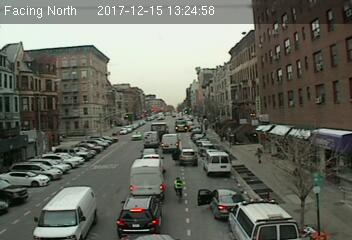bicycle: (173, 175, 183, 202)
car: (116, 194, 161, 234), (205, 187, 244, 218), (177, 148, 199, 165)
pedestrian: (254, 145, 263, 162)
police: (226, 197, 300, 240)
truck: (34, 185, 95, 240), (130, 160, 164, 196), (162, 133, 180, 151), (143, 132, 159, 146), (150, 122, 168, 134)
